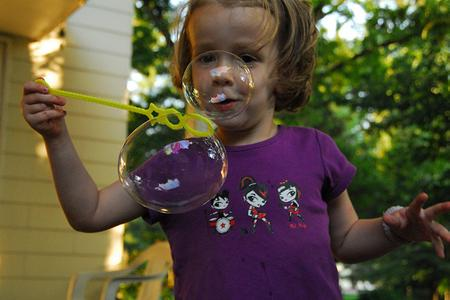person: (22, 3, 450, 299)
